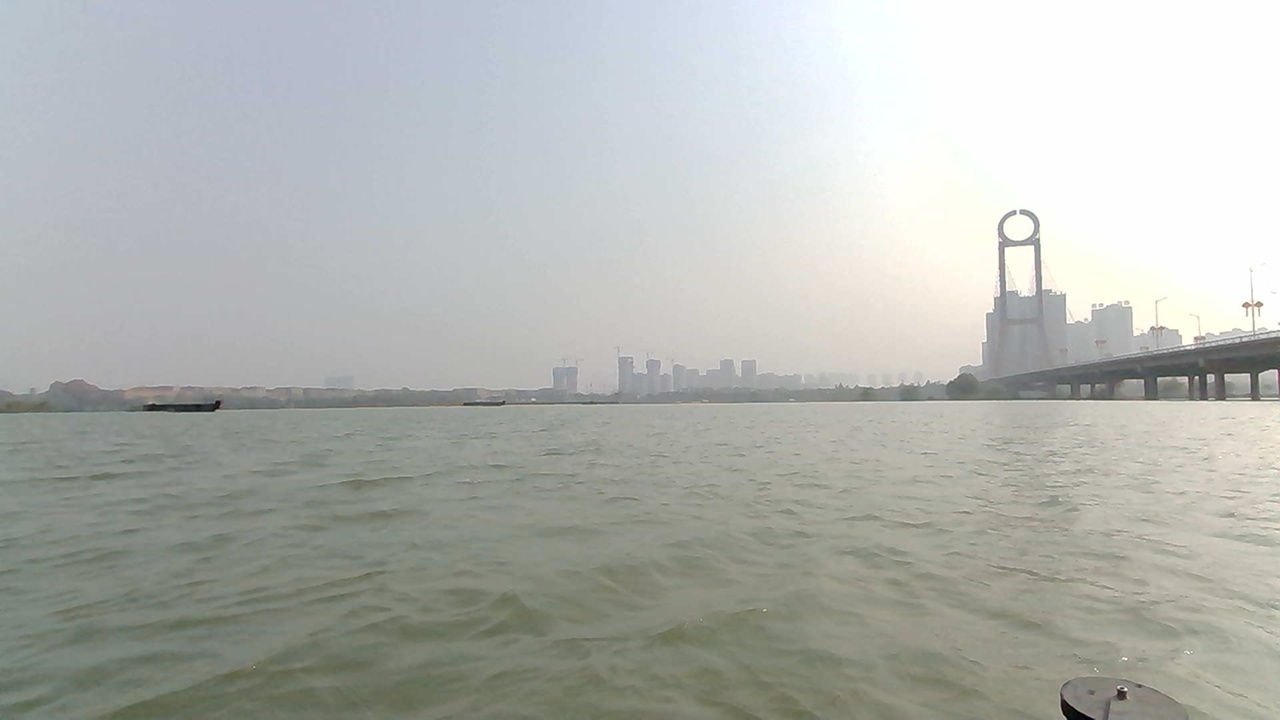bottle: (448, 478, 493, 502)
